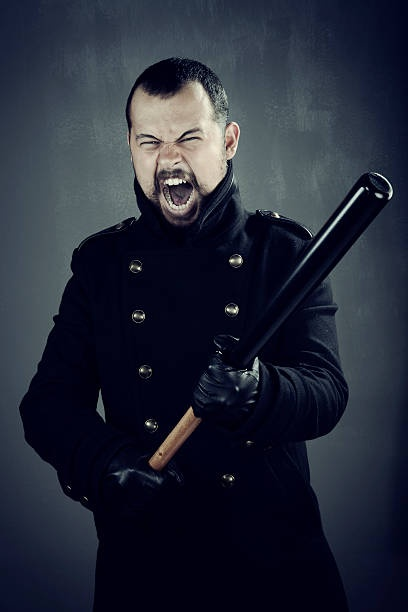bita: (145, 172, 392, 473)
